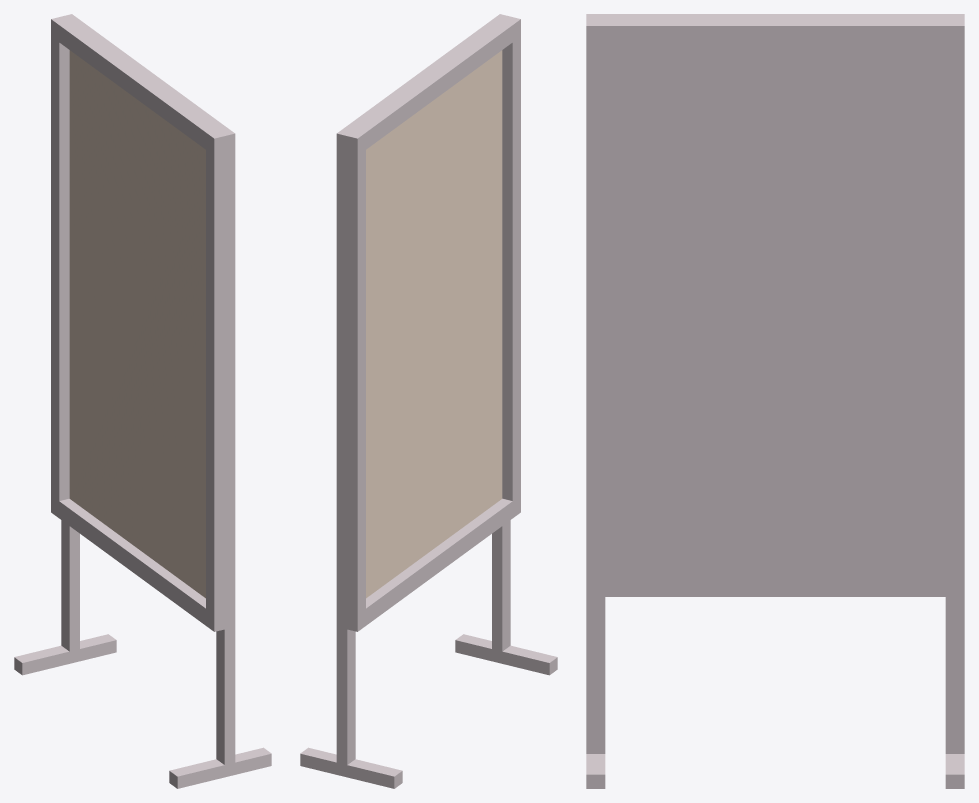
The model's file is boardmini.fbx.
The picture shows the model from 3 angles, left to right: view 1: azimuth 30°, elevation 25°; view 2: azimuth 150°, elevation 25°; view 3: azimuth 270°, elevation 25°; orthographic projection. The views are drawn at different scales.
Visible parts, largest first — view 1: Plane; view 2: Plane; view 3: Plane.
Boxes of the visible parts, <box> form: Plane: <box>14,14,271,788</box>; Plane: <box>300,14,557,788</box>; Plane: <box>586,14,964,788</box>.
Size of the model in its own units: 10 by 65 by 30.
